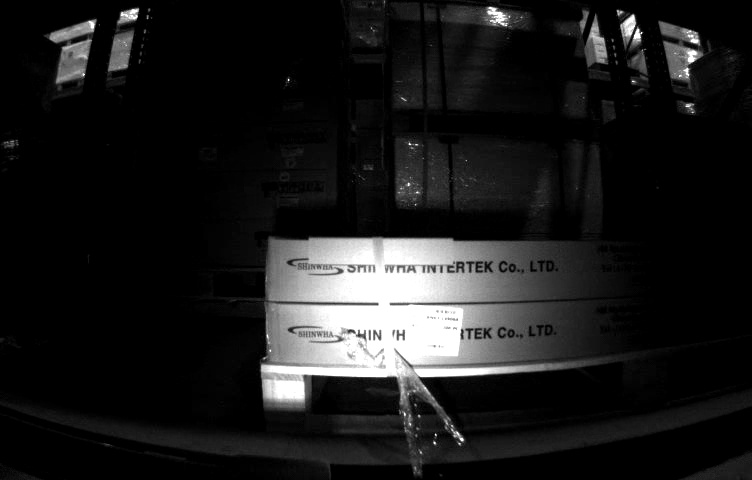True Barcode: (407, 301, 461, 355)
